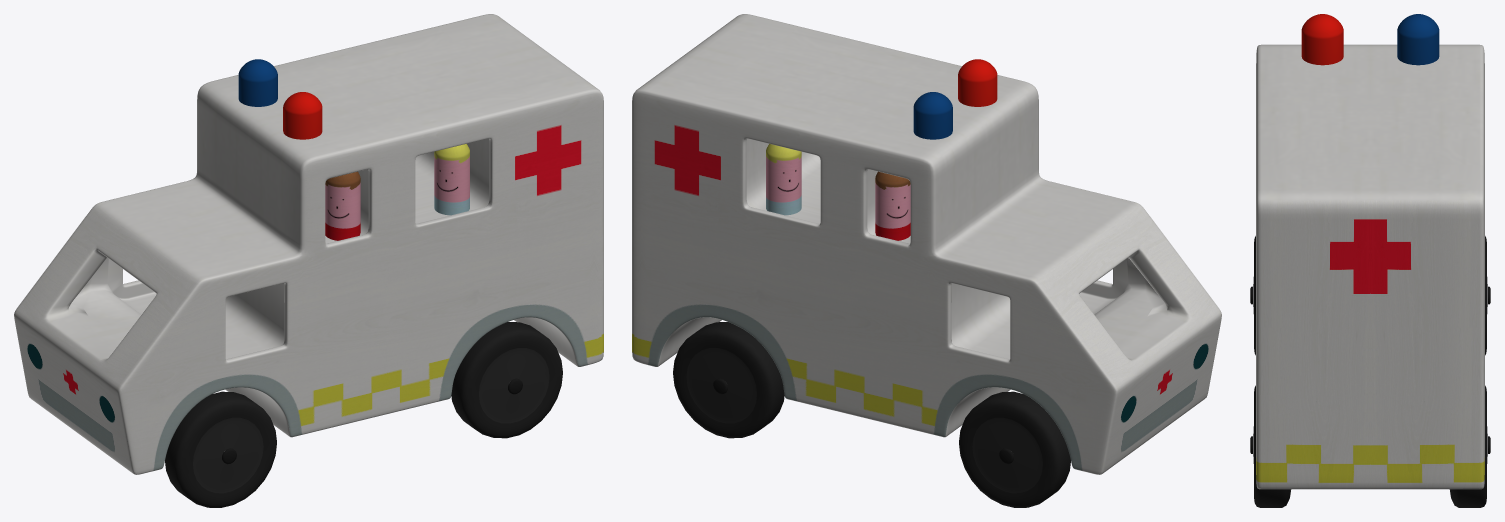
Rendered from 006_vray_max2009_reab.fbx.
3 renders of one model, left to right at view 1: azimuth 30°, elevation 25°; view 2: azimuth 150°, elevation 25°; view 3: azimuth 270°, elevation 25°, orthographic. The views are drawn at different scales.
Parts seen in each view (by area): view 1: archmodels69_006_01, archmodels69_006_02, archmodels69_006_04, archmodels69_006_03; view 2: archmodels69_006_01, archmodels69_006_02, archmodels69_006_04, archmodels69_006_03; view 3: archmodels69_006_01, archmodels69_006_03, archmodels69_006_02, archmodels69_006_04.
Boxes of the visible parts, x1,y1,x2,y2 form: archmodels69_006_01: (14,14,603,474); archmodels69_006_02: (165,322,562,507); archmodels69_006_04: (193,348,549,493); archmodels69_006_03: (238,59,322,139); archmodels69_006_01: (632,14,1221,474); archmodels69_006_02: (673,322,1070,507); archmodels69_006_04: (686,348,1042,493); archmodels69_006_03: (913,59,997,139); archmodels69_006_01: (1256,44,1484,489); archmodels69_006_03: (1301,14,1439,65); archmodels69_006_02: (1254,236,1486,507); archmodels69_006_04: (1250,277,1490,496).
Bounding box in the file's own units: 11.98 × 8.61 × 4.79.
